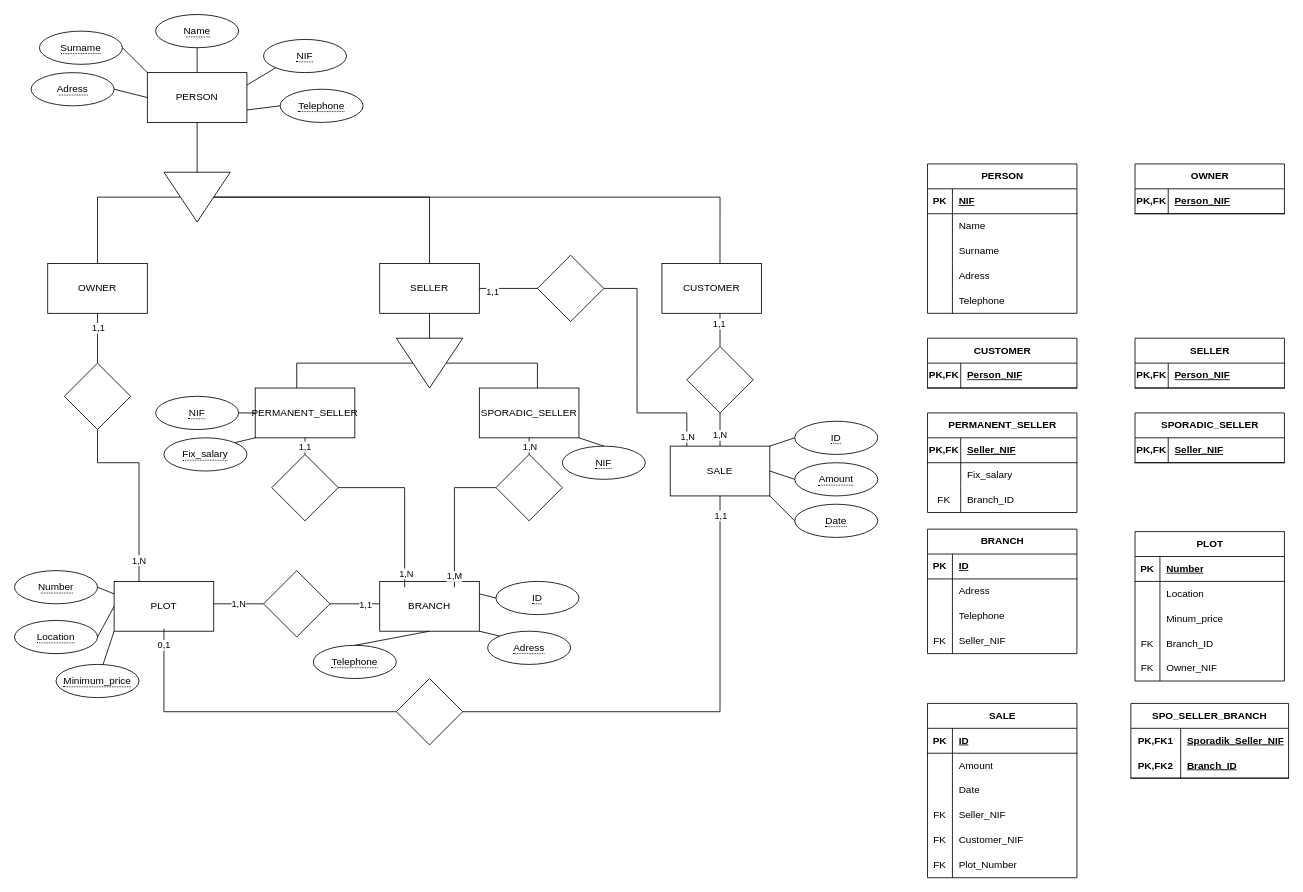
The diagram is 1303 pixels wide and 892 high, and some of its shapes have lost their labels. Here are the shapes that lost their labels. From the top down, the centre of each, then its label:
At (570,288): "MAKES 1:N".
At (97,396): "TRANSFERS 1:N".
At (719,379): "BUYS 1:N".
At (304,487): "WORKS 1:N".
At (528,487): "WORKS N:M".
At (296,603): "LISTS 1:N".
At (429,711): "SOLD 1:1".
